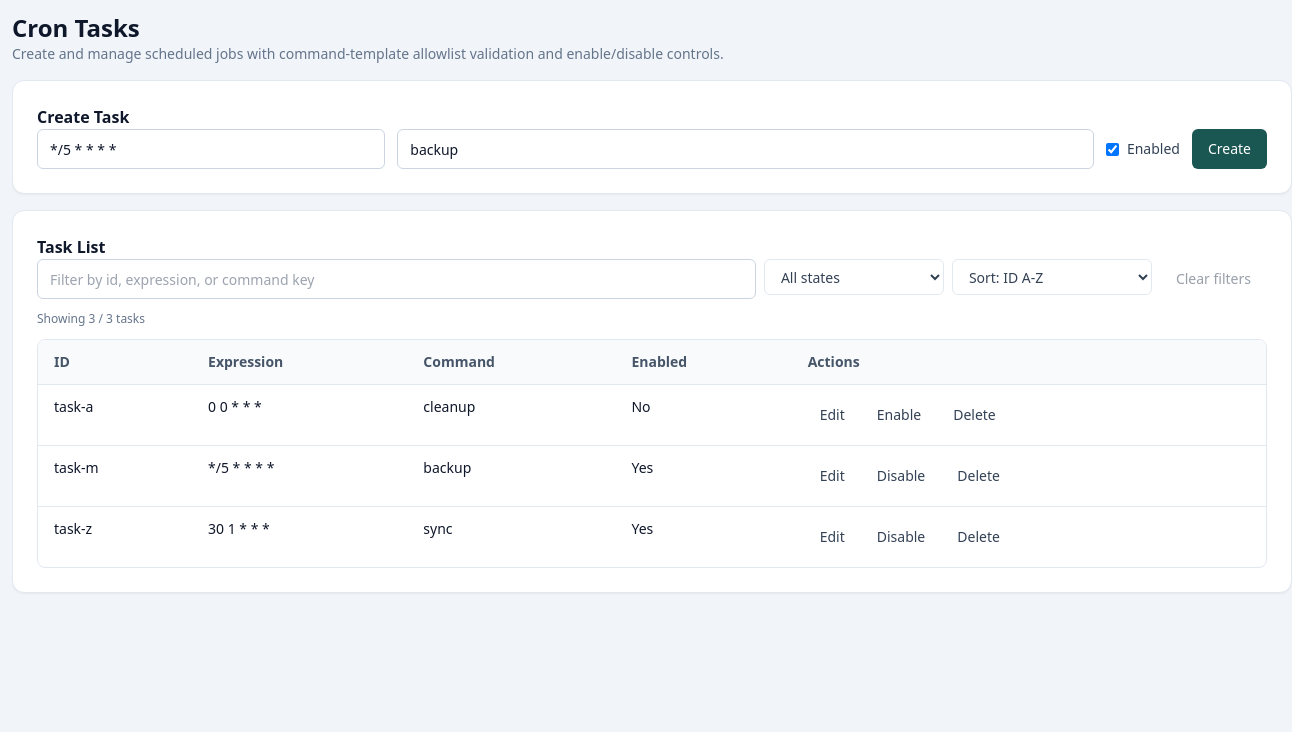
Test case: CronPage › submits create task form and shows success feedback
This screenshot has width=1292, height=732.
Expected: the text "Showing 3 / 3 tasks" is shown, [37, 310, 145, 327]
In the 1st field with placeholder "*/5 * * * *": [211, 149] box [37, 129, 385, 169], type "0 */6 * * *"
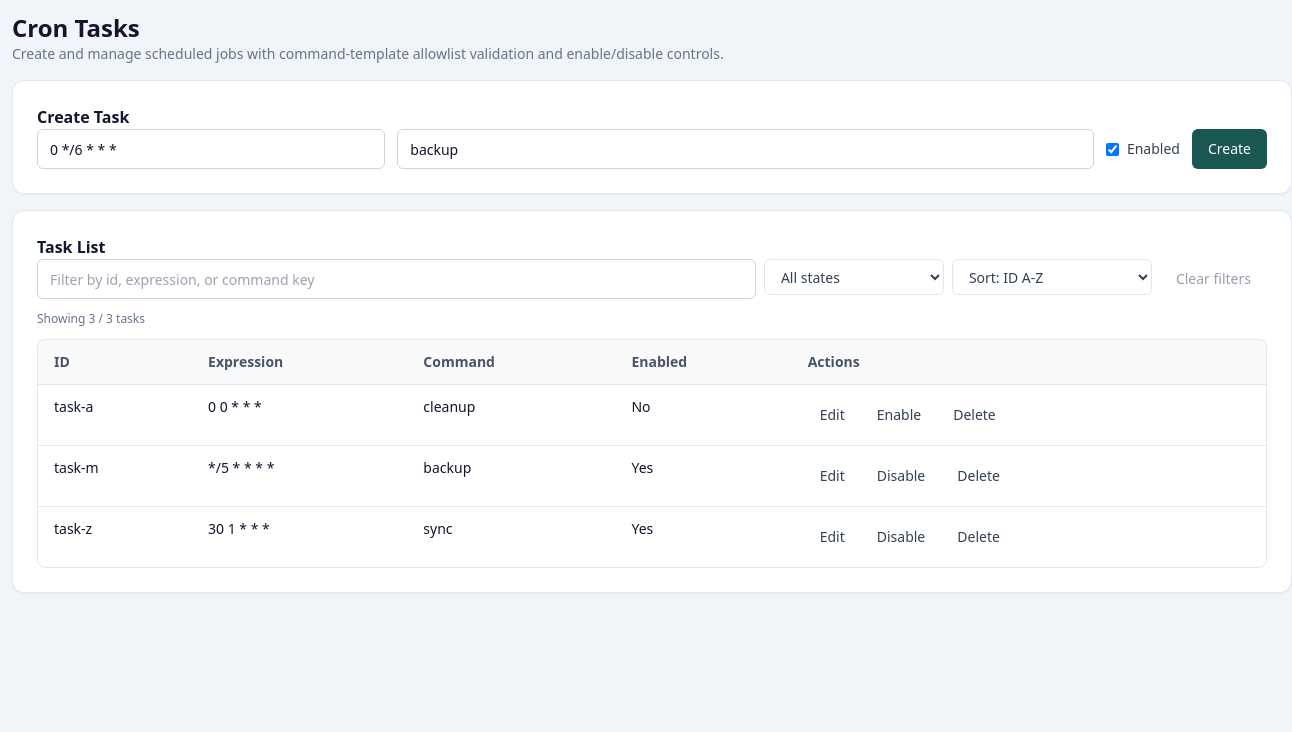
Replace the text in the 2nd field with placeholder "command template key (e.g. backup)" with "backup-nightly": [746, 149] box [397, 129, 1094, 169]
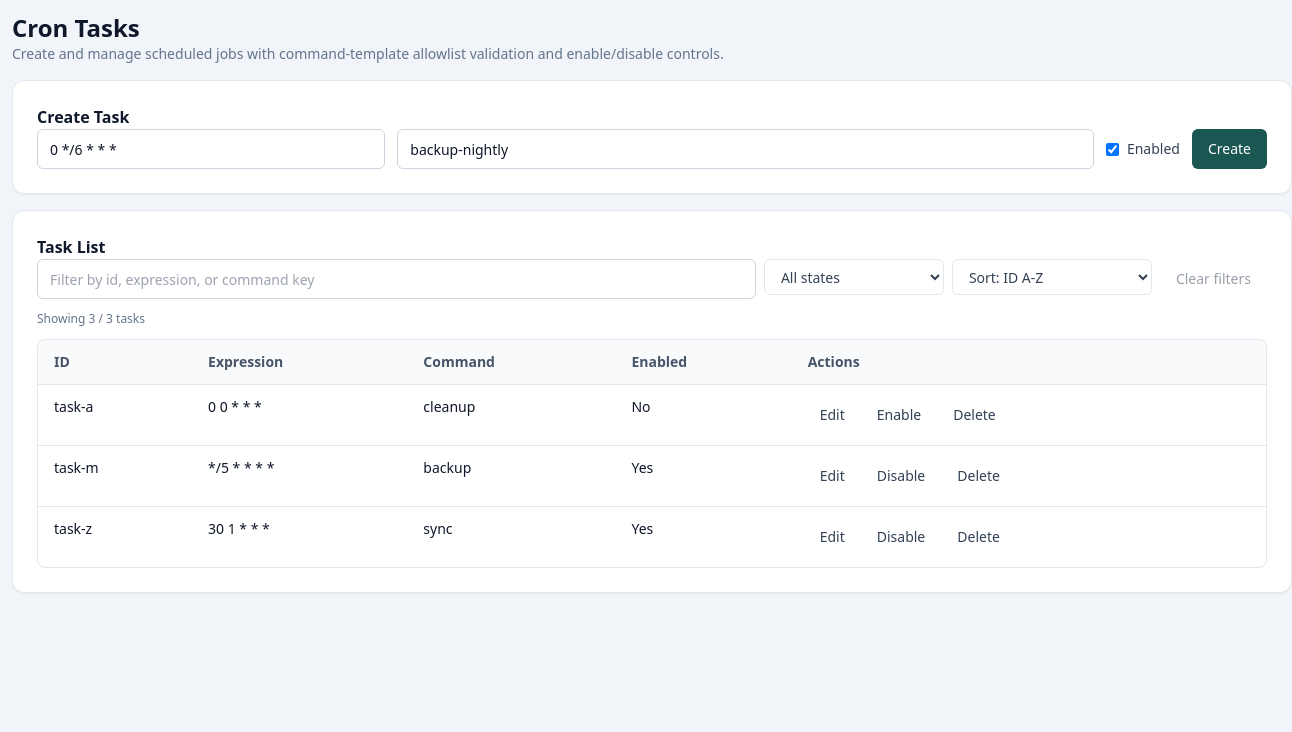
Click the checkbox: [1112, 149] box [1106, 142, 1119, 156]
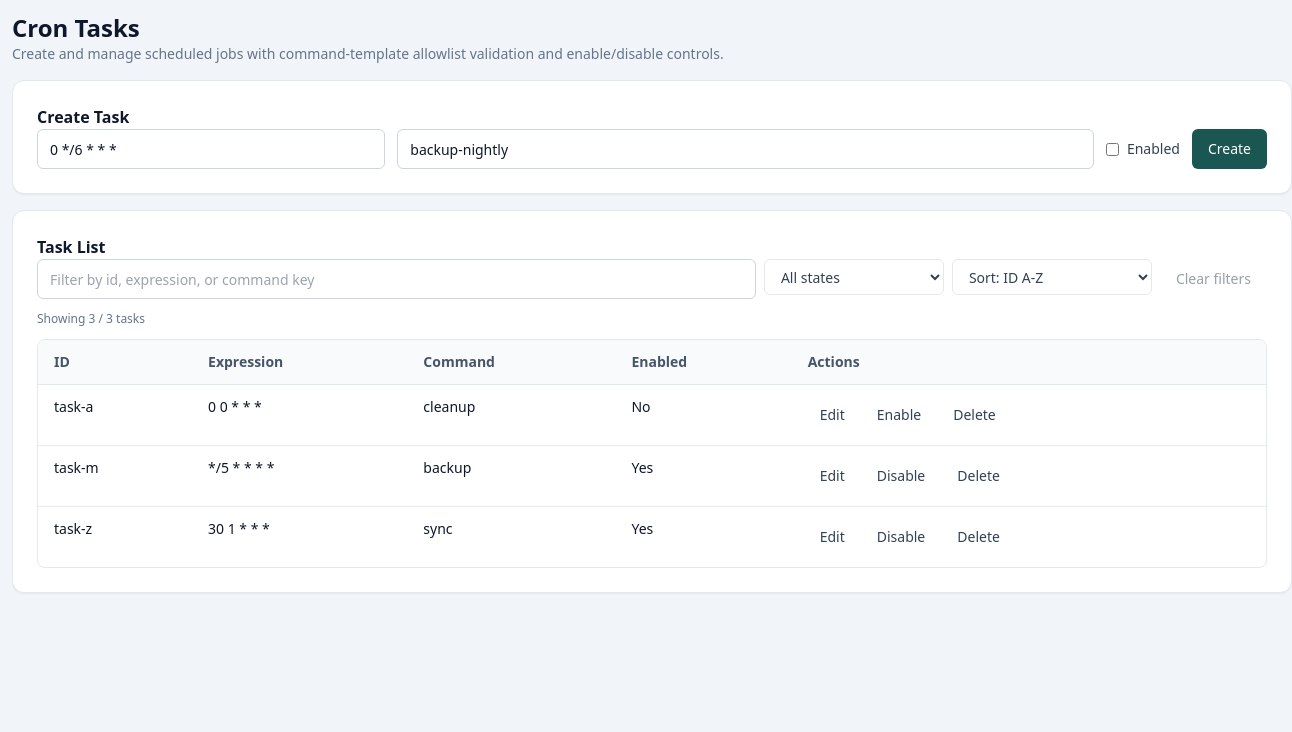
Click the button "Create": [1229, 149] box [1192, 129, 1267, 169]
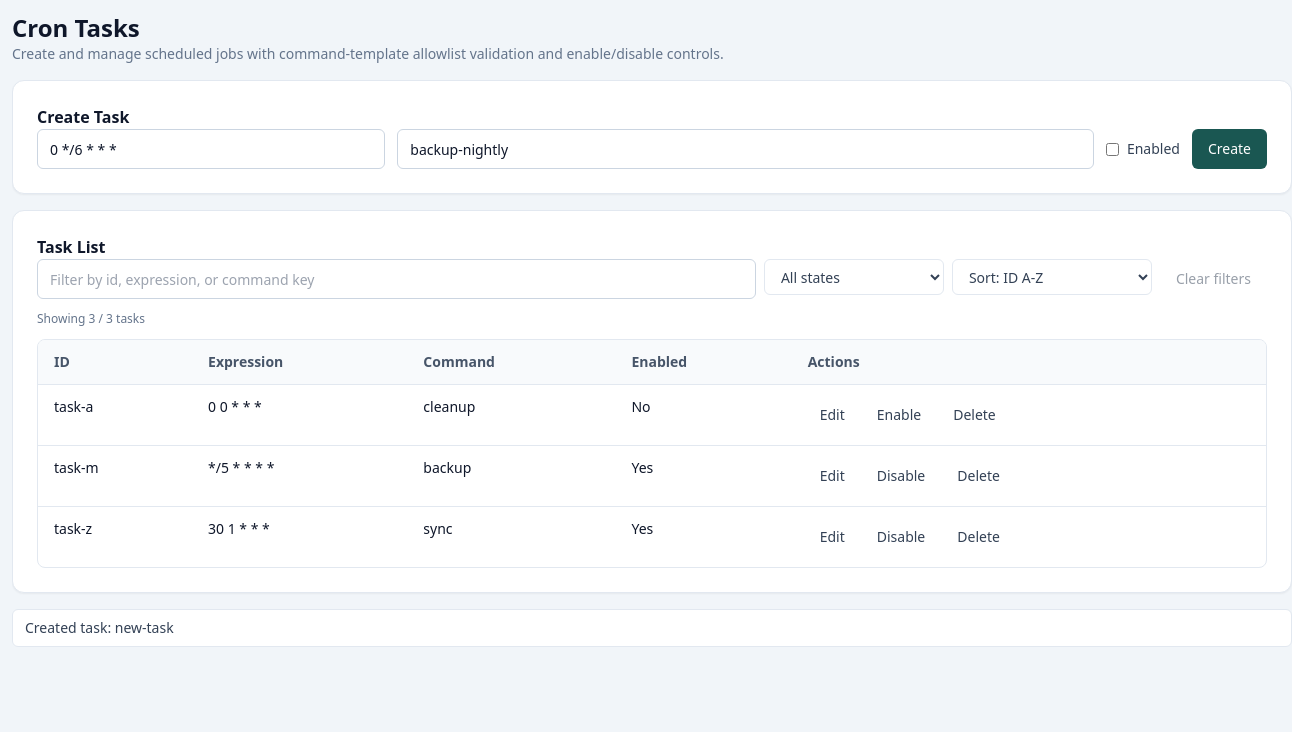
Expected: the text "Created task: new-task" is shown, [12, 609, 1291, 647]
